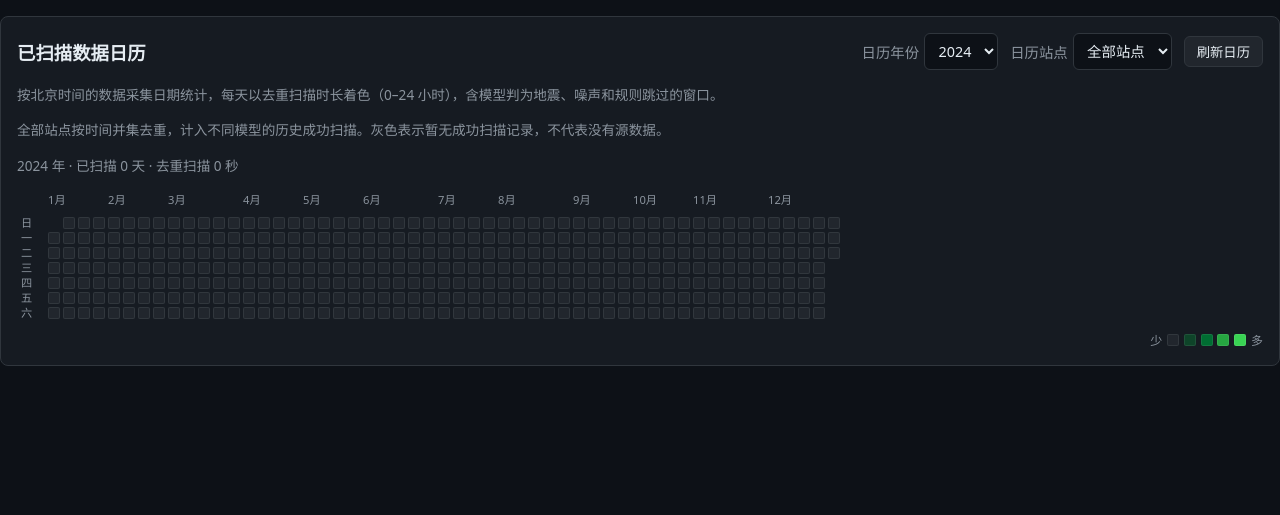
keeps only the newest clicked day's detail when a previous response arrives late
Click the button named "2024-01-01": (54, 238) [48, 232, 60, 244]
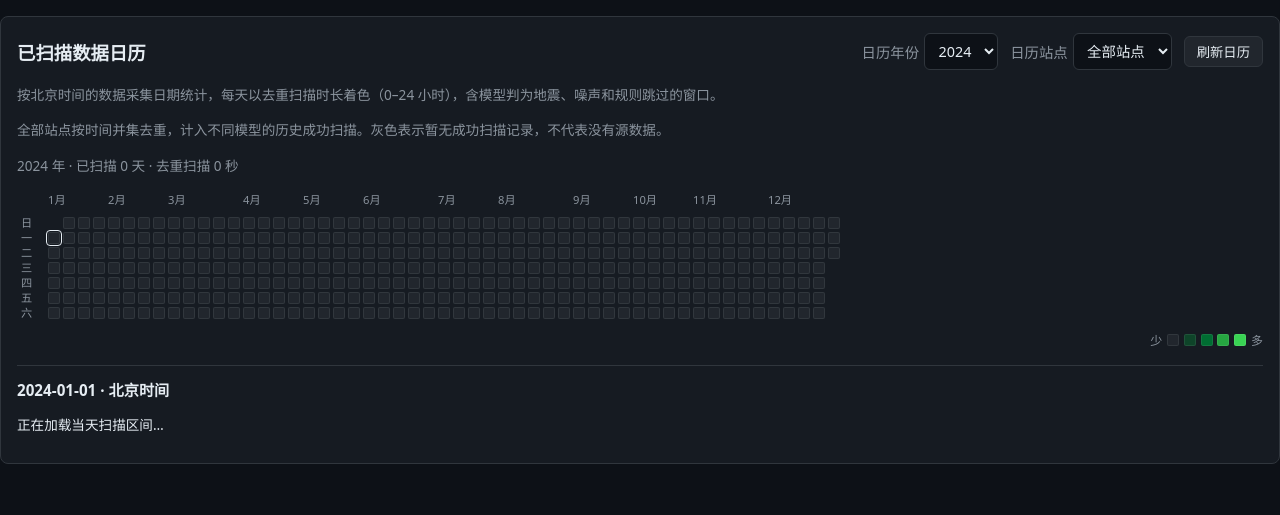
Click the button named "2024-01-02": (54, 253) [48, 247, 60, 259]
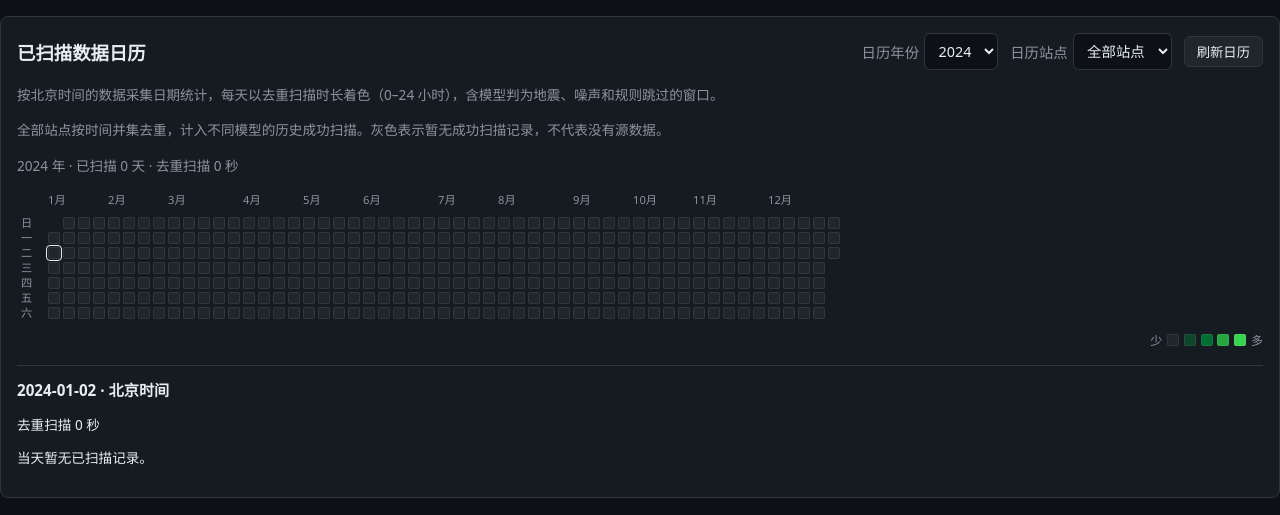
Now the text "当天暂无已扫描记录。" is shown, box [17, 448, 153, 467]
